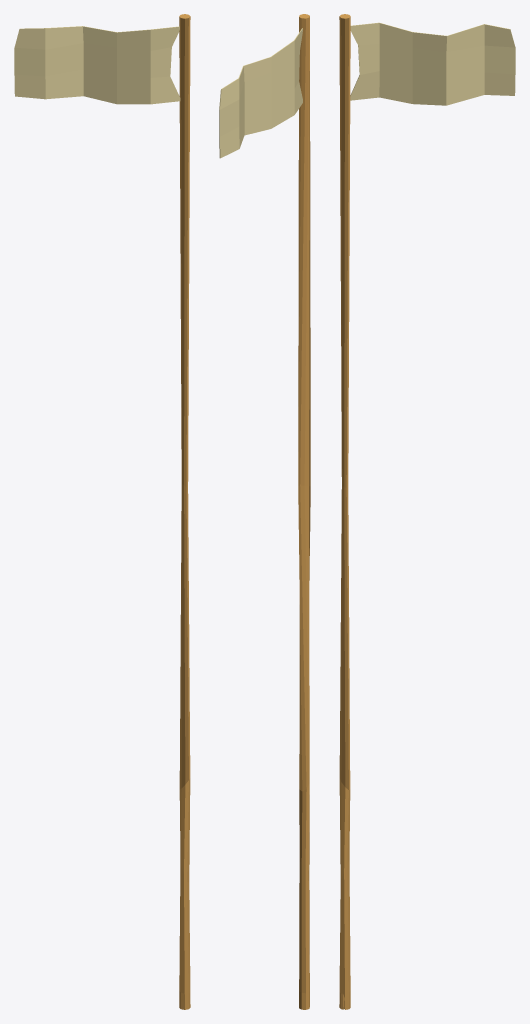
File: Flag 1.fbx
The picture shows the model from 3 angles, left to right: view 1: azimuth 90°, elevation 25°; view 2: azimuth 150°, elevation 25°; view 3: azimuth 270°, elevation 25°; orthographic projection.
Visible parts, largest first — view 1: Flag 1; view 2: Flag 1; view 3: Flag 1.
Boxes of the visible parts, x1,y1,x2,y2 form: Flag 1: (14, 14, 190, 1009); Flag 1: (219, 14, 310, 1009); Flag 1: (339, 14, 515, 1009).
Bounding box in the file's own units: 12.43 × 663 × 107.
